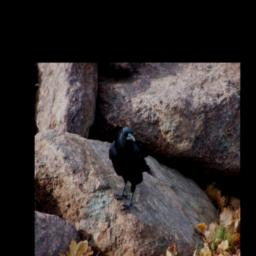Crow: (108, 123, 160, 215)
